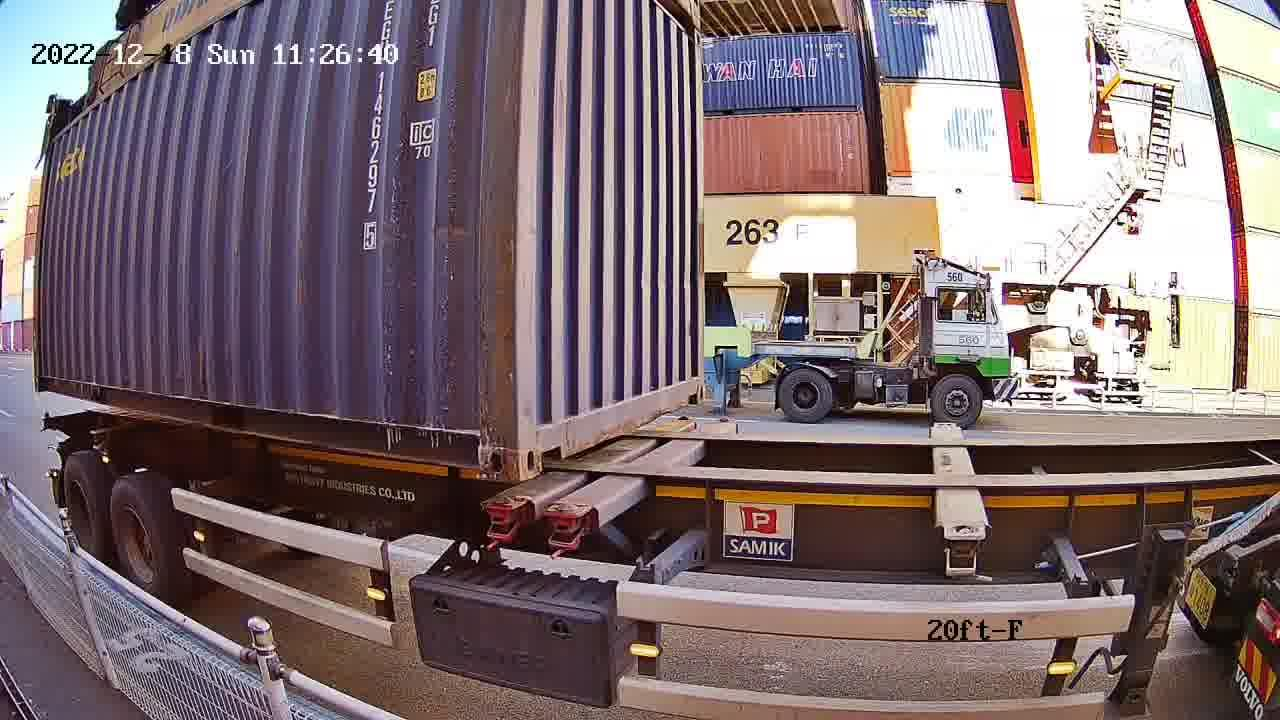Chassis: (549, 421, 738, 516), (491, 419, 696, 505)
Cone: (542, 503, 594, 562), (483, 496, 531, 541)
Hole_L: (520, 397, 567, 477)
Hole_R: (451, 398, 519, 477), (677, 357, 706, 406)
Tire: (113, 484, 173, 605), (62, 458, 108, 565)
